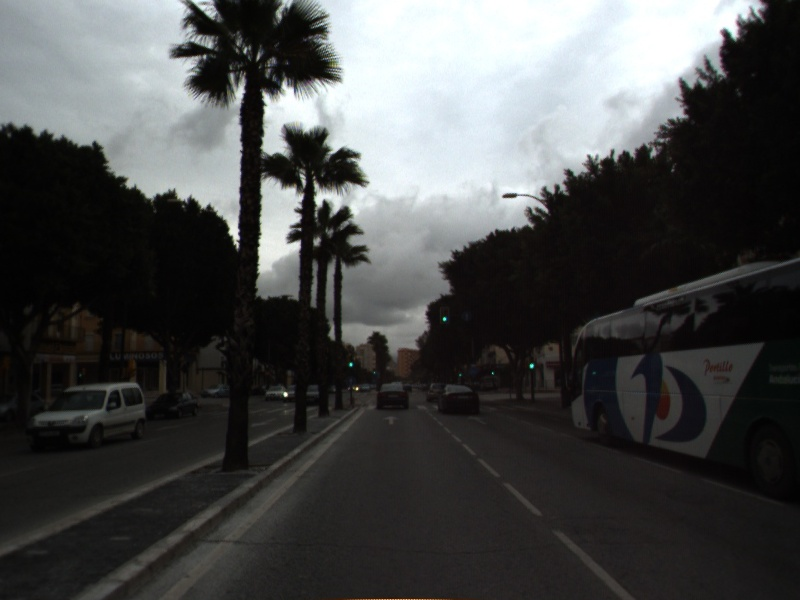STRAIGHT: (465, 413, 489, 427), (381, 414, 403, 427)
